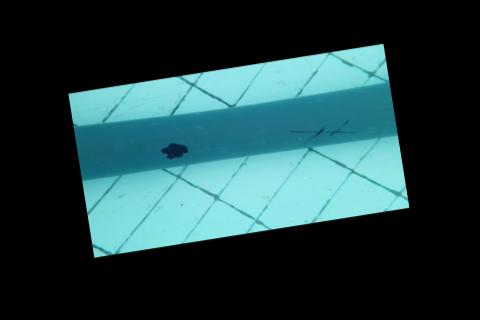kebocoran: (158, 140, 188, 162)
keretakan: (288, 119, 355, 145)
